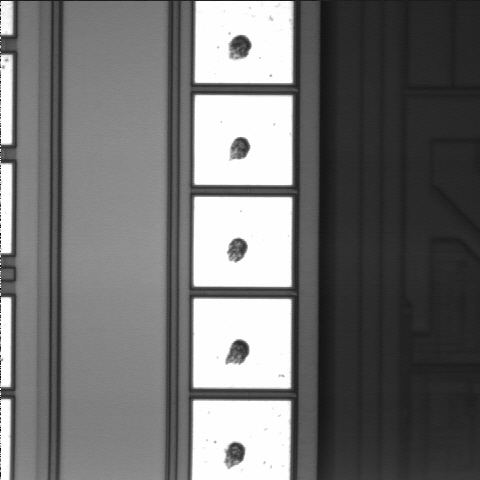pad: (194, 95, 292, 185), (194, 197, 292, 287), (193, 299, 291, 389)
